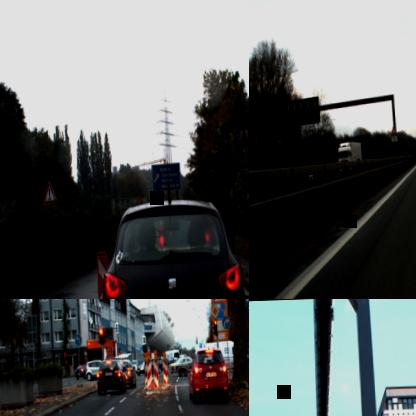DANGER: (42, 179, 58, 205)
go left or straight: (74, 334, 82, 346)
go right or straight: (221, 315, 230, 330)
priority road: (210, 304, 219, 318)
uneven road: (390, 124, 397, 136)
